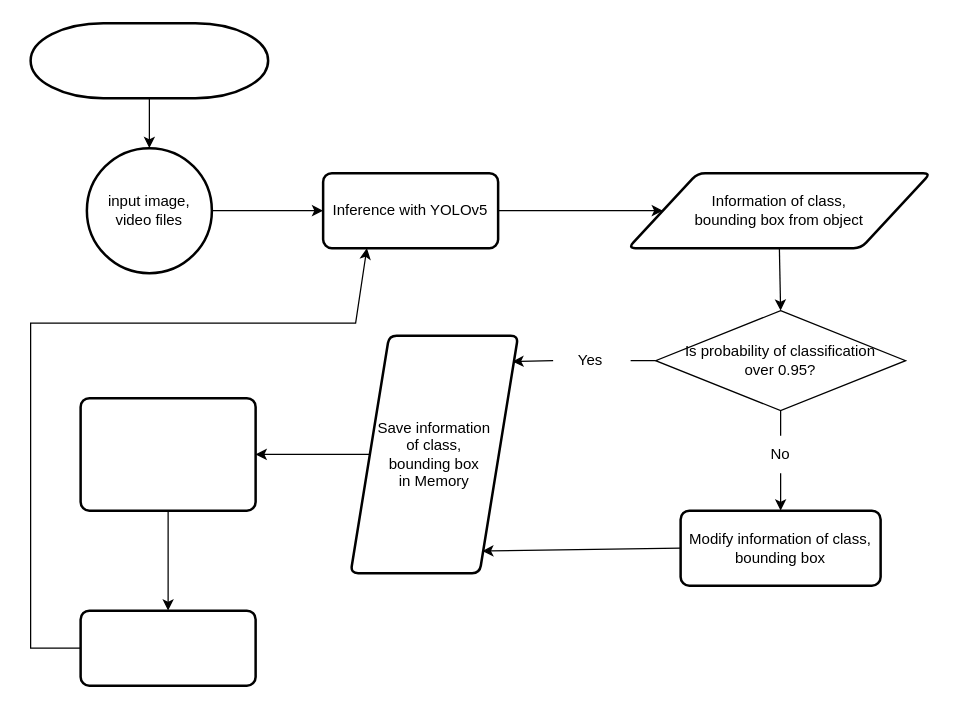
Image size: 954x708. Some labels were removed from this diagram. Here are the shapes that lost their labels. From the top down, the centre of each, then its label:
At point (149, 60): "image, video files in local storage".
At point (167, 453): "Retraining my model with YOLOv5".
At point (167, 647): "Reload my model to YOLOv5 detector".
